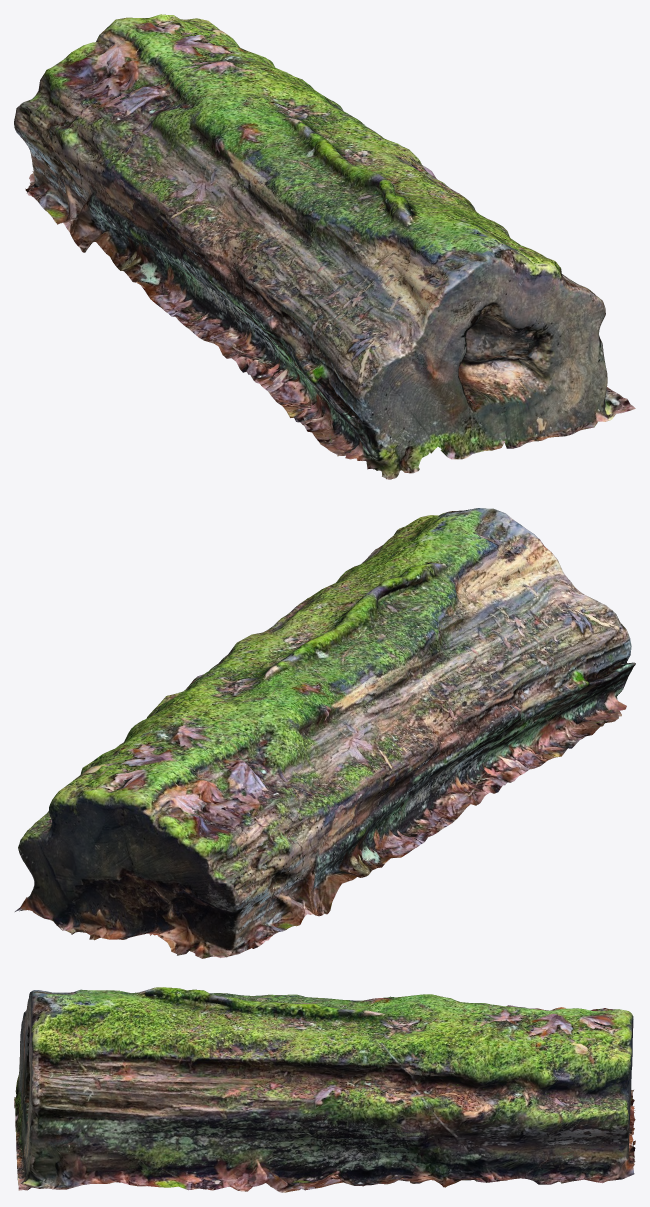
Rendered from log_mossy.glb.
The picture shows the model from 3 angles, top to bottom: view 1: azimuth 30°, elevation 25°; view 2: azimuth 150°, elevation 25°; view 3: azimuth 270°, elevation 25°; orthographic projection. The views are drawn at different scales.
Visible parts, largest first — view 1: log_mossy; view 2: log_mossy; view 3: log_mossy.
Part boxes in pixels (x1=…): log_mossy: x1=14, y1=14, x2=635, y2=479; log_mossy: x1=15, y1=508, x2=635, y2=958; log_mossy: x1=14, y1=987, x2=635, y2=1192.
Bounding box in the file's own units: 4.12 × 2.6 × 9.6.
Materials: 1 (1 with a texture image).
